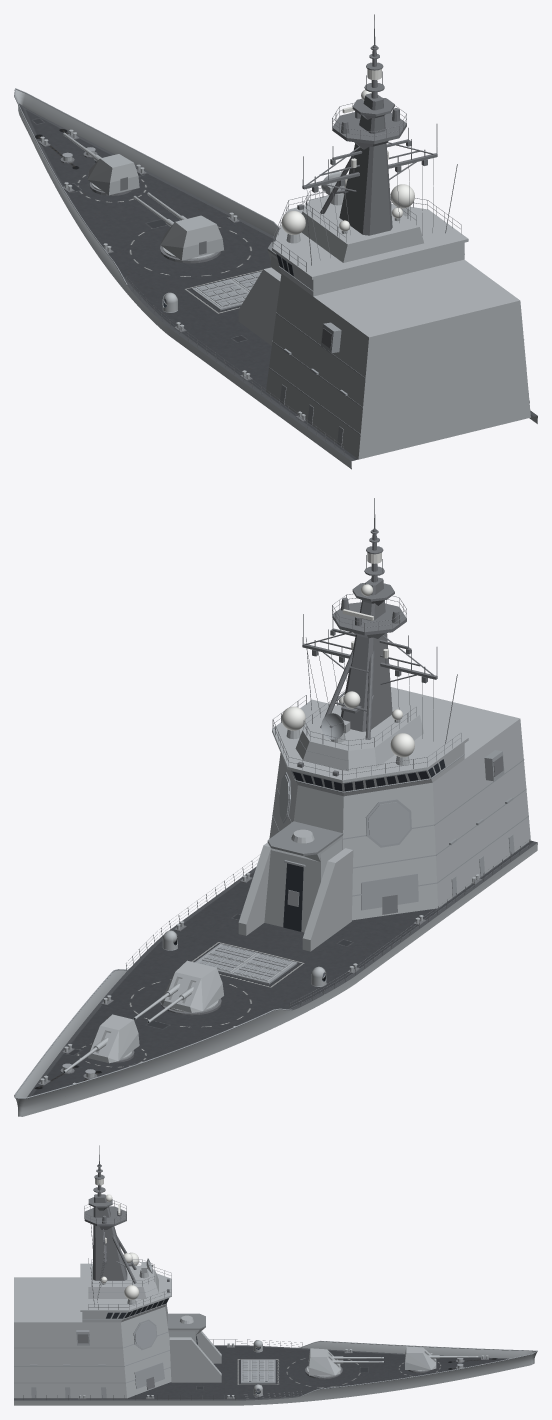
The model's file is destroyer_v14.glb.
3 views of the same model, one above another, from view 1: azimuth 30°, elevation 25°; view 2: azimuth 150°, elevation 25°; view 3: azimuth 270°, elevation 25° (orthographic). The views are drawn at different scales.
Visible parts, largest first — view 1: Deckhouse_Hull_Grey, Deck_Painted, Bridge_Hull_Grey, Mast_Mast_Dark, Hull_Hull_Grey_2S_smooth, DeckGunTurretGeo_Hull_Grey, FrontGunTurretGeo_Hull_Grey, Deckhouse_Seam_Grey, Radomes_Radome_White_smooth, Railings_Mast_Dark, Hull_Seam_Grey, Lifelines_Mast_Dark; view 2: Deckhouse_Hull_Grey, Deck_Painted, Bridge_Hull_Grey, Mast_Mast_Dark, Hull_Hull_Grey_2S_smooth, Deckhouse_Seam_Grey, DeckGunTurretGeo_Hull_Grey, SPY_Panels_SPY_Panel, FrontGunTurretGeo_Hull_Grey, Railings_Mast_Dark, Radomes_Radome_White_smooth, Deckhouse_Deck_Grey (+4 smaller); view 3: Deckhouse_Hull_Grey, Deck_Painted, Hull_Hull_Grey_2S_smooth, Bridge_Hull_Grey, Mast_Mast_Dark, Deckhouse_Seam_Grey, DeckGunTurretGeo_Hull_Grey, Hull_Seam_Grey, FrontGunTurretGeo_Hull_Grey, Railings_Mast_Dark, Deckhouse_Deck_Grey, Lifelines_Mast_Dark (+3 smaller).
Boxes of the visible parts, x1,y1,x2,y2 form: Deckhouse_Hull_Grey: (238,250,530,459); Deck_Painted: (18,103,537,461); Bridge_Hull_Grey: (272,195,468,296); Mast_Mast_Dark: (302,14,457,265); Hull_Hull_Grey_2S_smooth: (15,90,537,469); DeckGunTurretGeo_Hull_Grey: (160,215,223,260); FrontGunTurretGeo_Hull_Grey: (87,154,139,195); Deckhouse_Seam_Grey: (268,312,528,446); Radomes_Radome_White_smooth: (281,89,414,234); Railings_Mast_Dark: (272,102,461,271); Hull_Seam_Grey: (14,88,279,285); Lifelines_Mast_Dark: (126,276,529,454); Deckhouse_Hull_Grey: (238,687,530,951); Deck_Painted: (27,840,537,1097); Bridge_Hull_Grey: (272,699,468,796); Mast_Mast_Dark: (302,498,457,743); Hull_Hull_Grey_2S_smooth: (15,843,537,1116); Deckhouse_Seam_Grey: (272,750,528,910); DeckGunTurretGeo_Hull_Grey: (161,960,223,1012); SPY_Panels_SPY_Panel: (279,775,409,845); FrontGunTurretGeo_Hull_Grey: (88,1014,139,1063); Railings_Mast_Dark: (272,593,461,779); Radomes_Radome_White_smooth: (281,584,414,757); Deckhouse_Deck_Grey: (267,821,343,855); Deckhouse_Hull_Grey: (14,1277,221,1398); Deck_Painted: (14,1345,508,1400); Hull_Hull_Grey_2S_smooth: (14,1341,536,1405); Bridge_Hull_Grey: (80,1263,171,1322); Mast_Mast_Dark: (84,1145,136,1306); Deckhouse_Seam_Grey: (14,1330,197,1398); DeckGunTurretGeo_Hull_Grey: (309,1348,340,1375); Hull_Seam_Grey: (301,1340,537,1396); FrontGunTurretGeo_Hull_Grey: (405,1346,436,1369); Railings_Mast_Dark: (84,1200,171,1309); Deckhouse_Deck_Grey: (168,1313,205,1329); Lifelines_Mast_Dark: (23,1339,302,1399).
Bounding box in the file's own units: 21.25 × 41.4 × 84.53.
10 materials, 1 textured.
